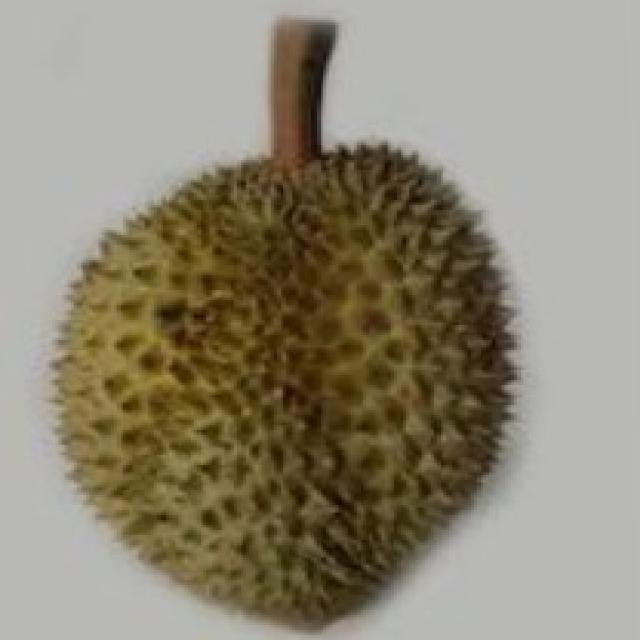fruit: (190, 247, 563, 640), (3, 255, 375, 640)
